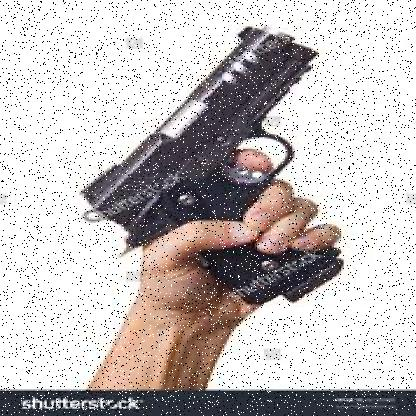pistol: (77, 24, 346, 312)
